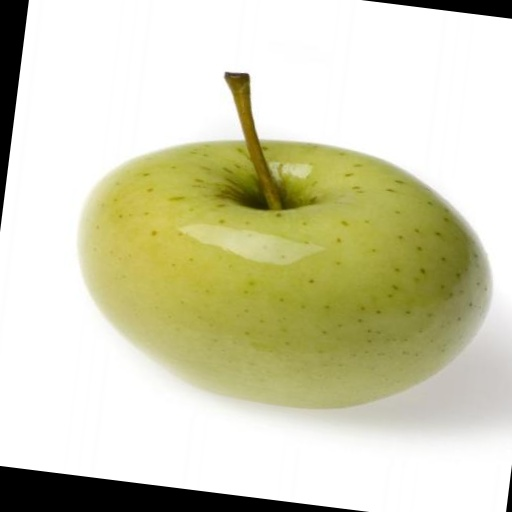fruit: (79, 141, 490, 407)
